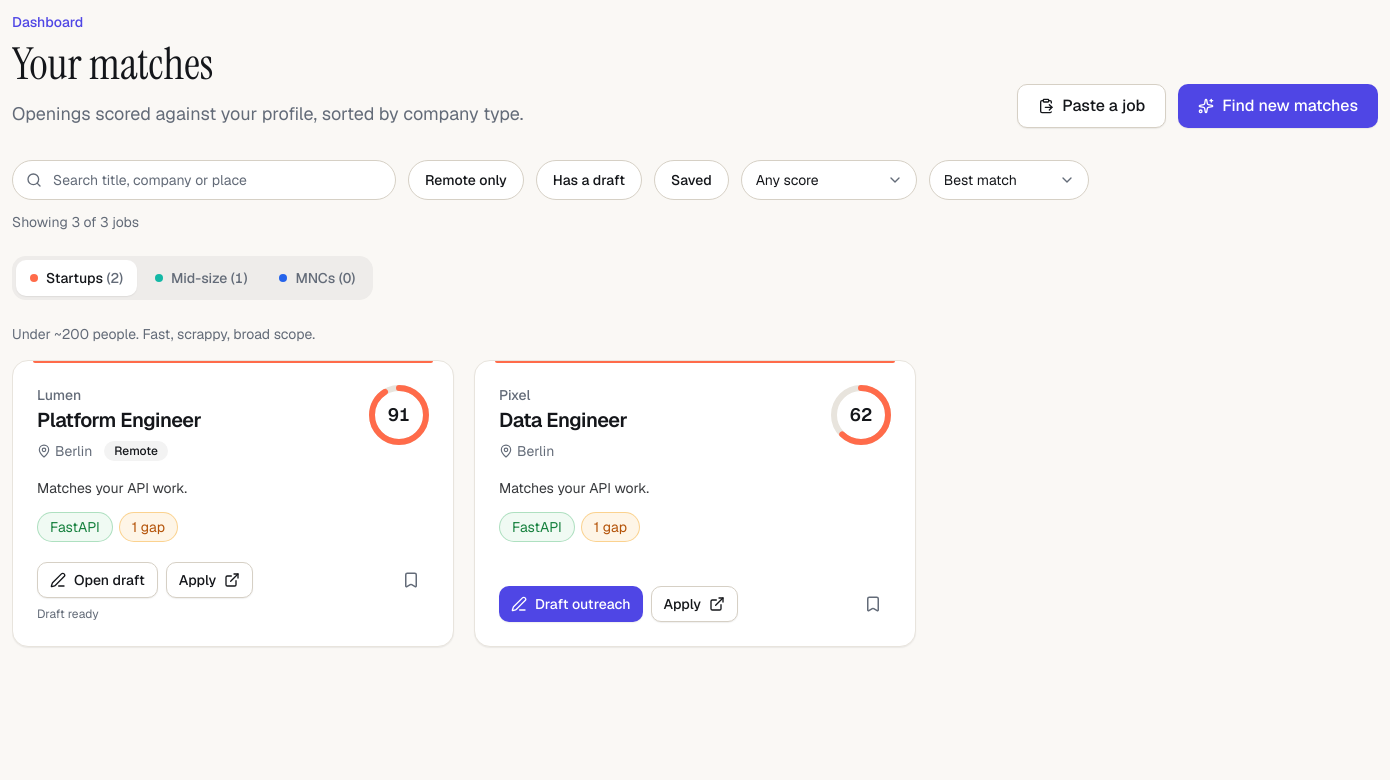
Test: Dashboard › filters and offers to clear them
The width and height of the screenshot is (1390, 780).
Expected: the link "Platform Engineer" is shown, [37,407,201,433]
Click the button "Remote only" at (466, 180), box [408,160,524,200]
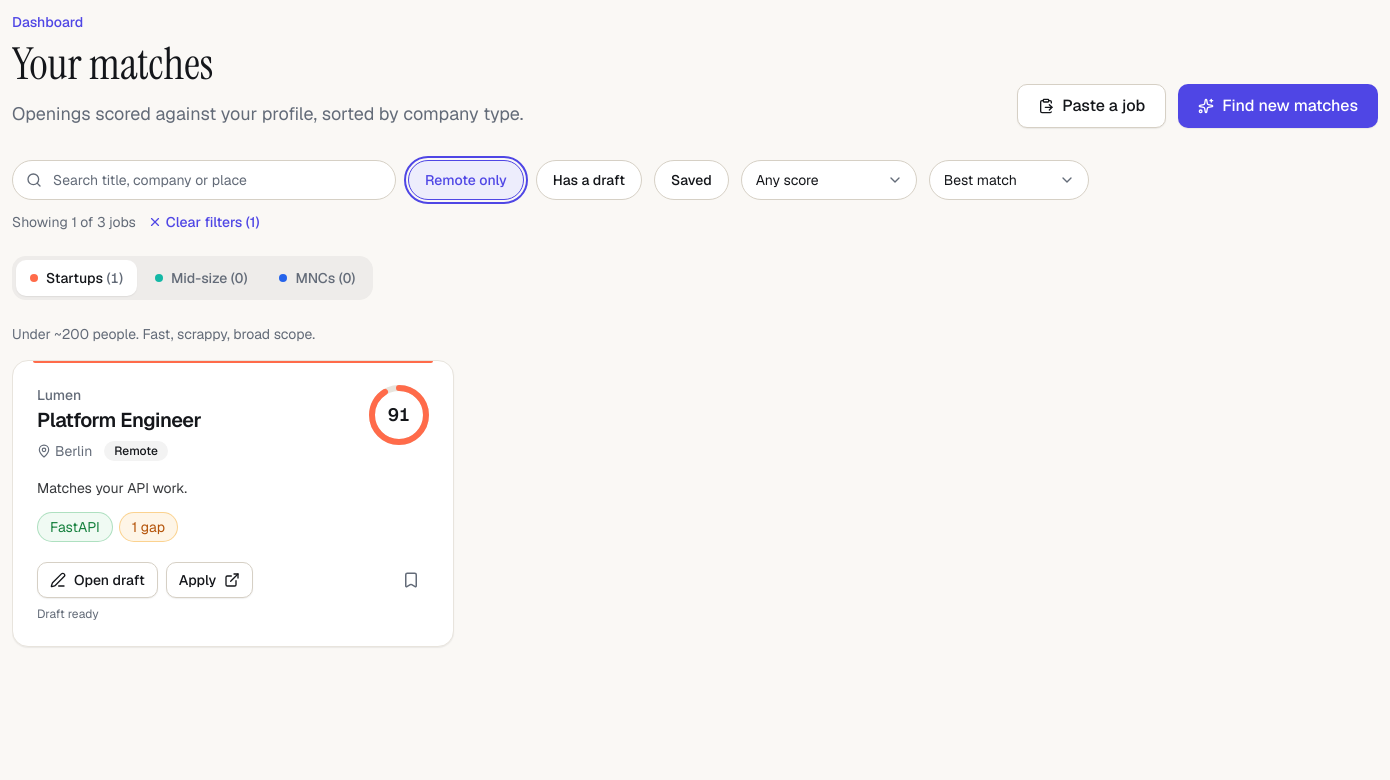
Now the link "Data Engineer" is gone
Now the tab "Startups (1)" is shown, box [16,260,137,296]
Type "zzz" into the search field named "Search jobs" at (204, 180), box [12,160,396,200]
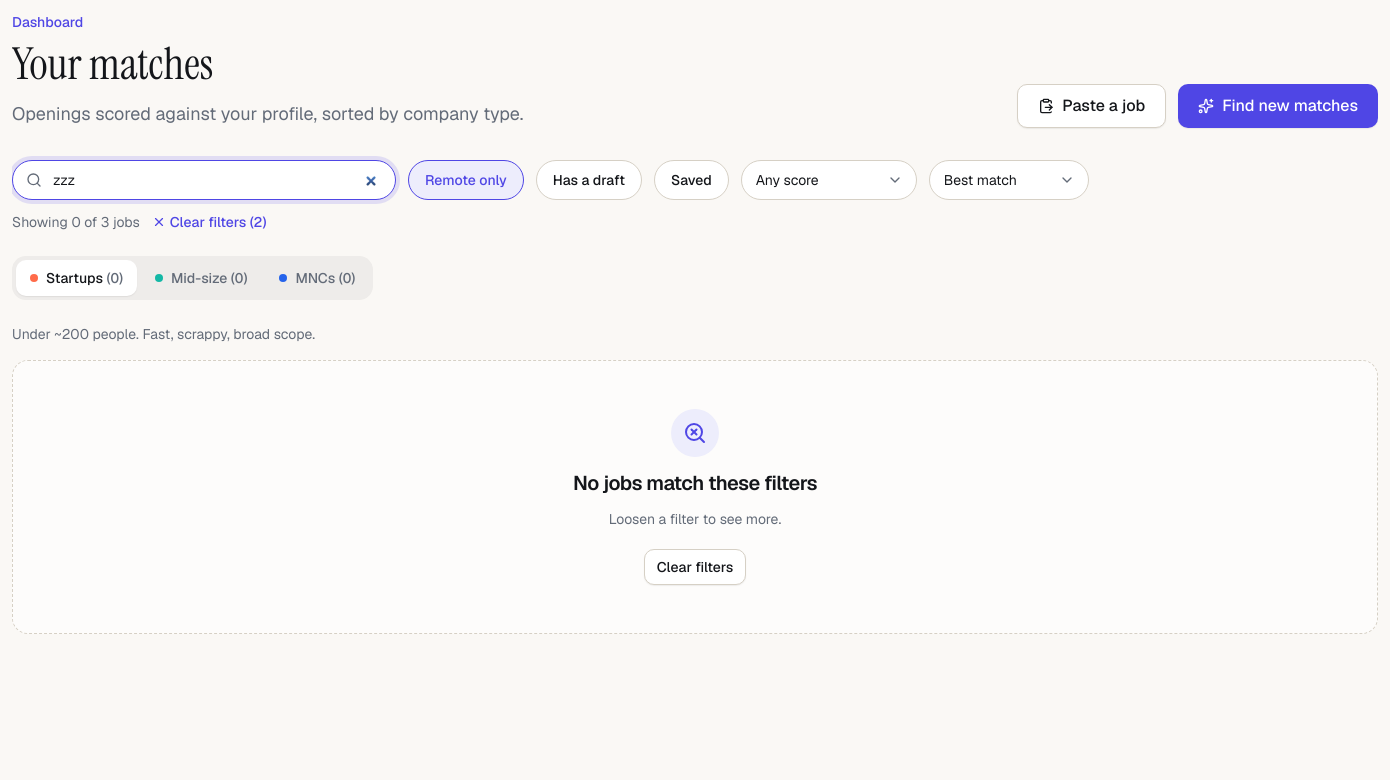
Now the heading "No jobs match these filters" is shown, box [573,469,817,497]
Click the button "Clear filters (2)" at (209, 222), box [152,212,266,232]
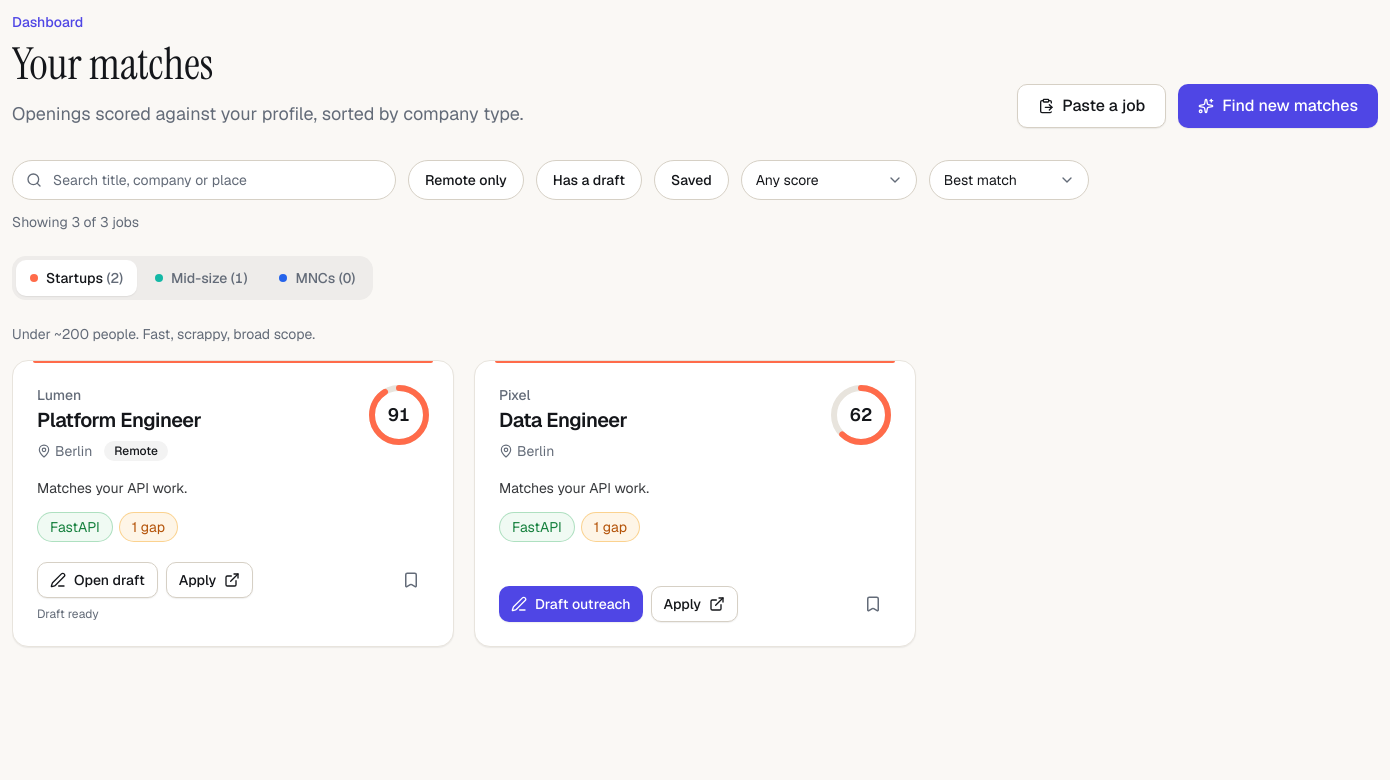
Now the link "Data Engineer" is shown, box [499,407,627,433]
